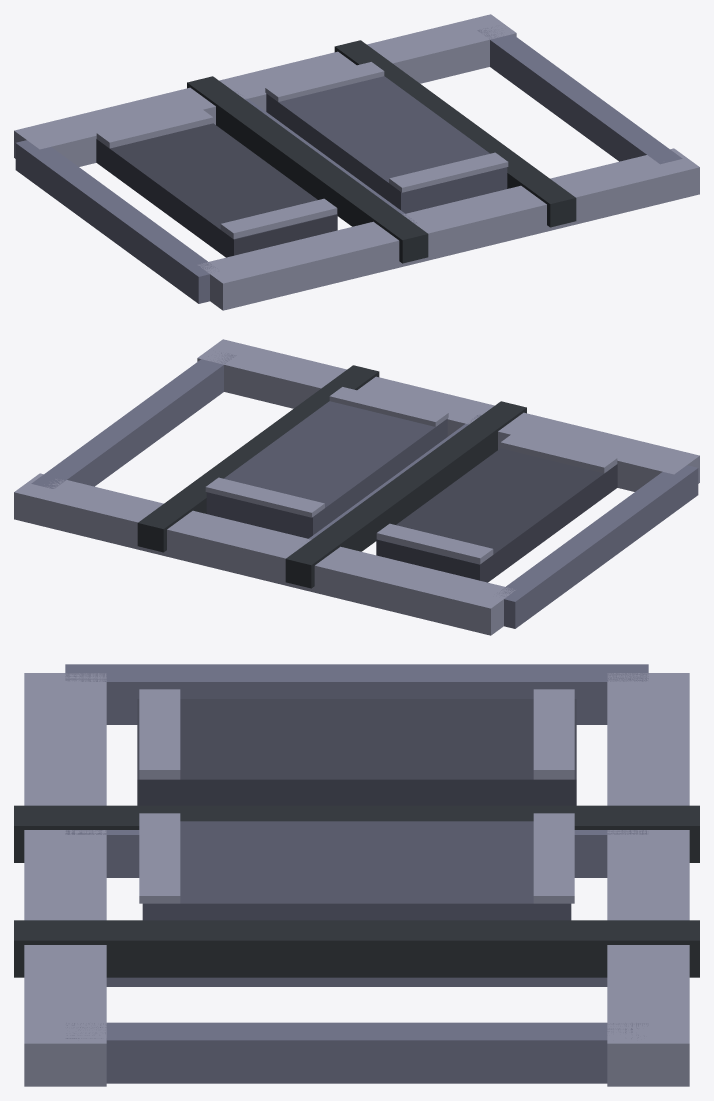
The model's file is CMU3DCMChairFolded.glb.
The picture shows the model from 3 angles, top to bottom: view 1: azimuth 30°, elevation 25°; view 2: azimuth 150°, elevation 25°; view 3: azimuth 270°, elevation 25°; orthographic projection. The views are drawn at different scales.
Visible parts, largest first — view 1: folded outer tube (×2), folded cross tube (×3), folded seat panel, folded back panel, folded hinge (×2), back edge (×2), seat edge (×2); view 2: folded outer tube (×2), folded cross tube (×3), folded seat panel, folded back panel, folded hinge (×2), back edge (×2), seat edge (×2); view 3: folded outer tube (×2), folded cross tube (×4), folded hinge (×2), folded back panel, folded seat panel, back edge (×2), seat edge (×2).
Boxes of the visible parts, left/top/right/bottom form: folded outer tube (×2): left=14, top=14, right=699, bottom=310; folded cross tube (×3): left=15, top=27, right=682, bottom=303; folded seat panel: left=266, top=76, right=507, bottom=213; folded back panel: left=96, top=123, right=337, bottom=257; folded hinge (×2): left=187, top=40, right=576, bottom=263; back edge (×2): left=96, top=108, right=337, bottom=239; seat edge (×2): left=265, top=62, right=508, bottom=192; folded outer tube (×2): left=14, top=339, right=699, bottom=635; folded cross tube (×3): left=31, top=352, right=698, bottom=628; folded seat panel: left=206, top=401, right=447, bottom=538; folded back panel: left=376, top=448, right=617, bottom=582; folded hinge (×2): left=137, top=365, right=526, bottom=588; back edge (×2): left=376, top=433, right=617, bottom=564; seat edge (×2): left=205, top=387, right=448, bottom=517; folded outer tube (×2): left=24, top=673, right=689, bottom=1086; folded cross tube (×4): left=65, top=664, right=648, bottom=1083; folded hinge (×2): left=14, top=805, right=699, bottom=977; folded back panel: left=137, top=699, right=576, bottom=805; folded seat panel: left=142, top=821, right=571, bottom=920; back edge (×2): left=139, top=689, right=574, bottom=779; seat edge (×2): left=139, top=813, right=574, bottom=903.
Bounding box in the file's own units: 0.942 × 0.081 × 0.72.
